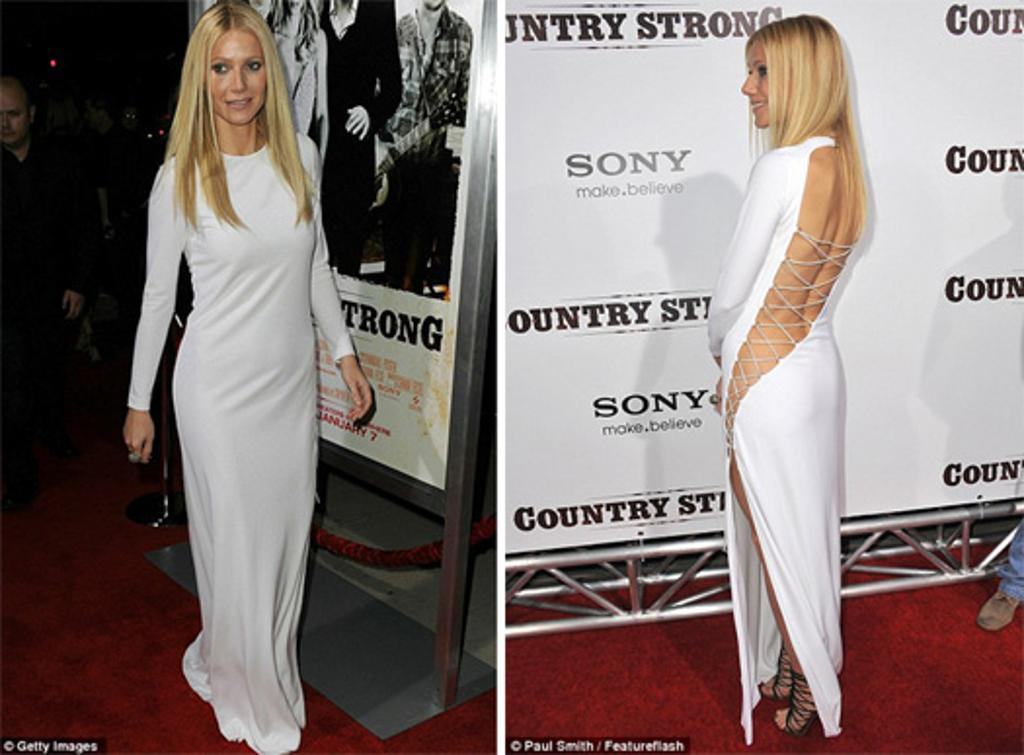face: (202, 38, 268, 123), (740, 53, 785, 126), (0, 91, 27, 144), (46, 108, 72, 139), (85, 104, 100, 129), (122, 108, 137, 126)
